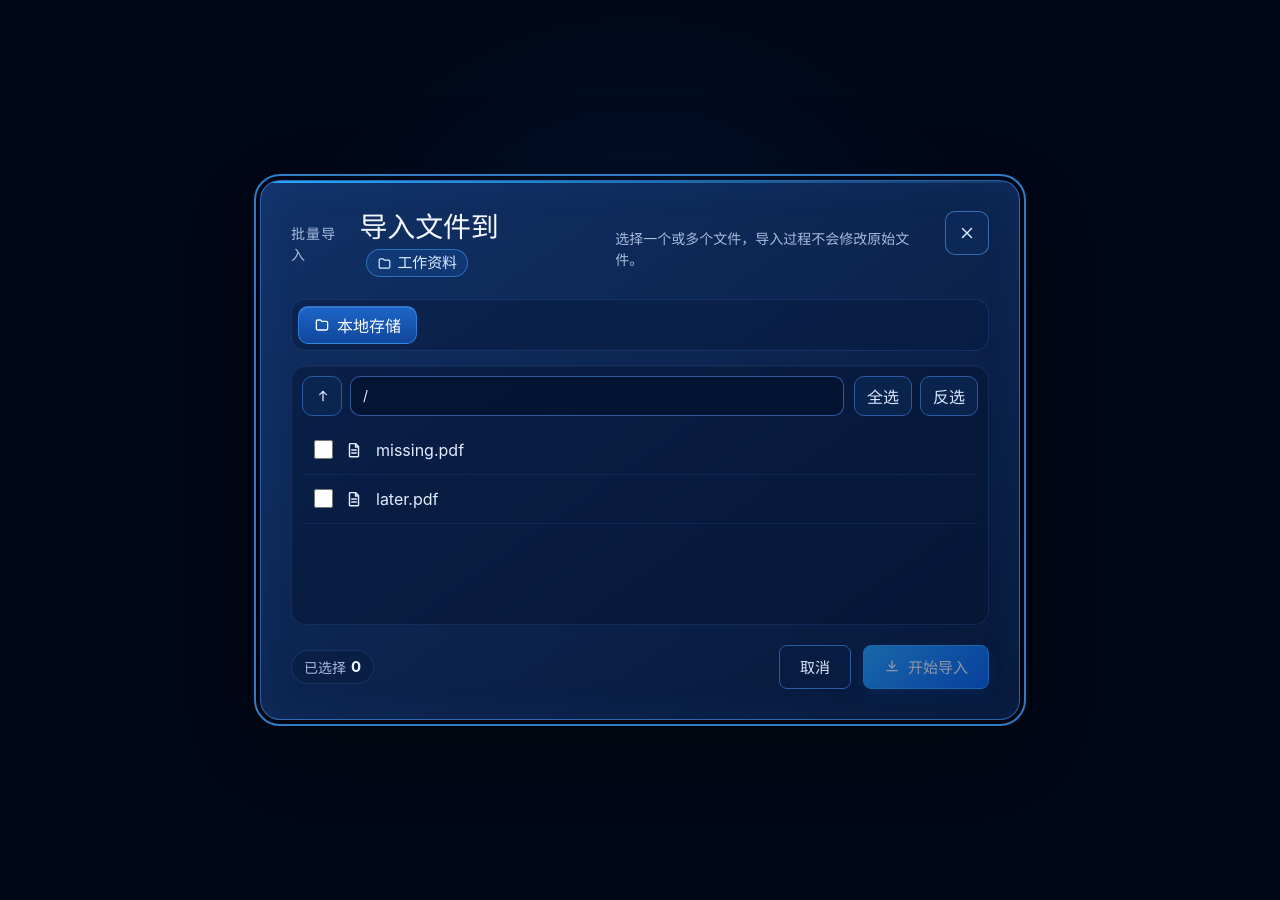
Test: ImportFileDialog import flow › browses, selects files, starts the batch, and renders streamed progress
Click the checkbox labelled "missing.pdf" at x=324, y=450, box [314,440,333,459]
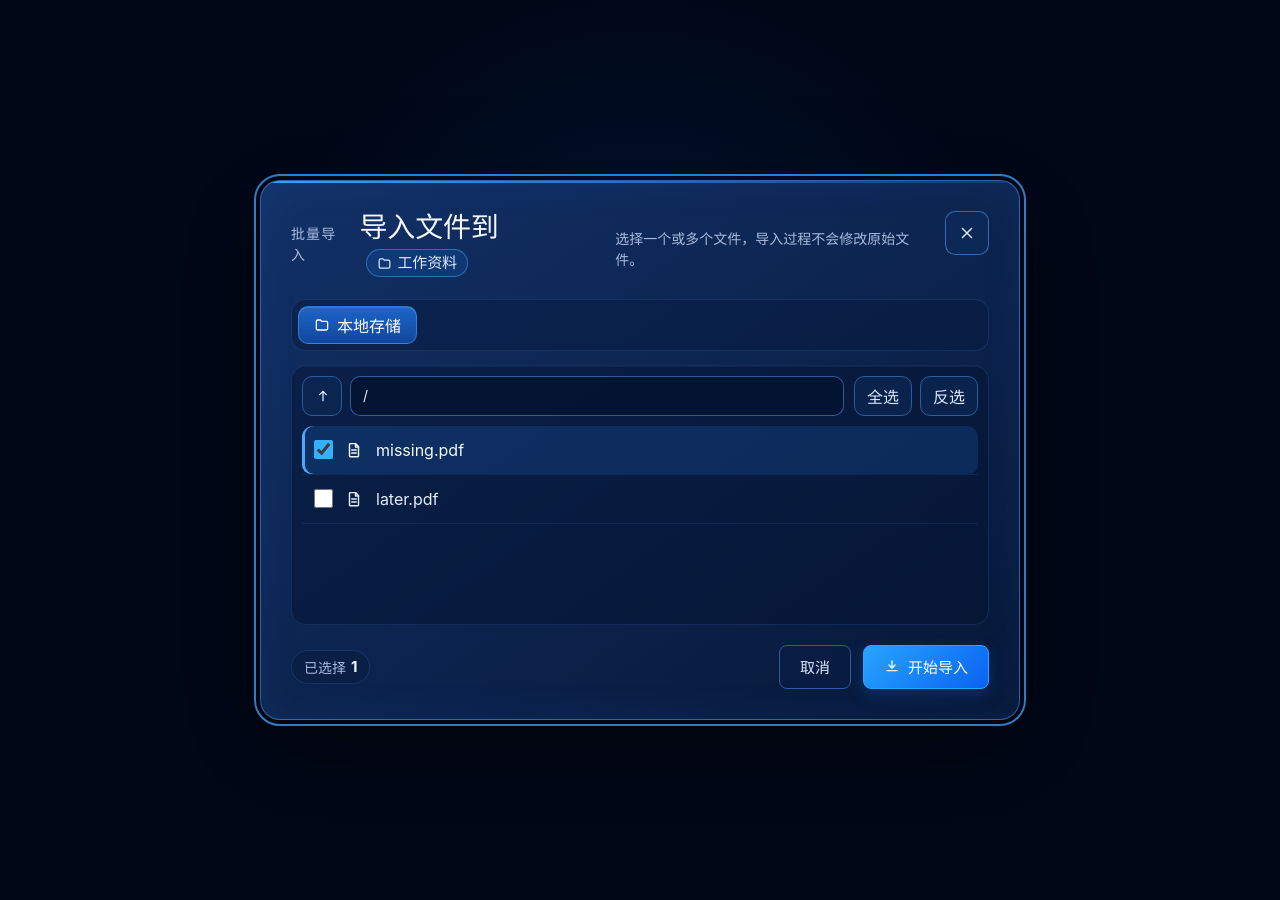
Click the checkbox labelled "later.pdf" at x=324, y=499, box [314,489,333,508]
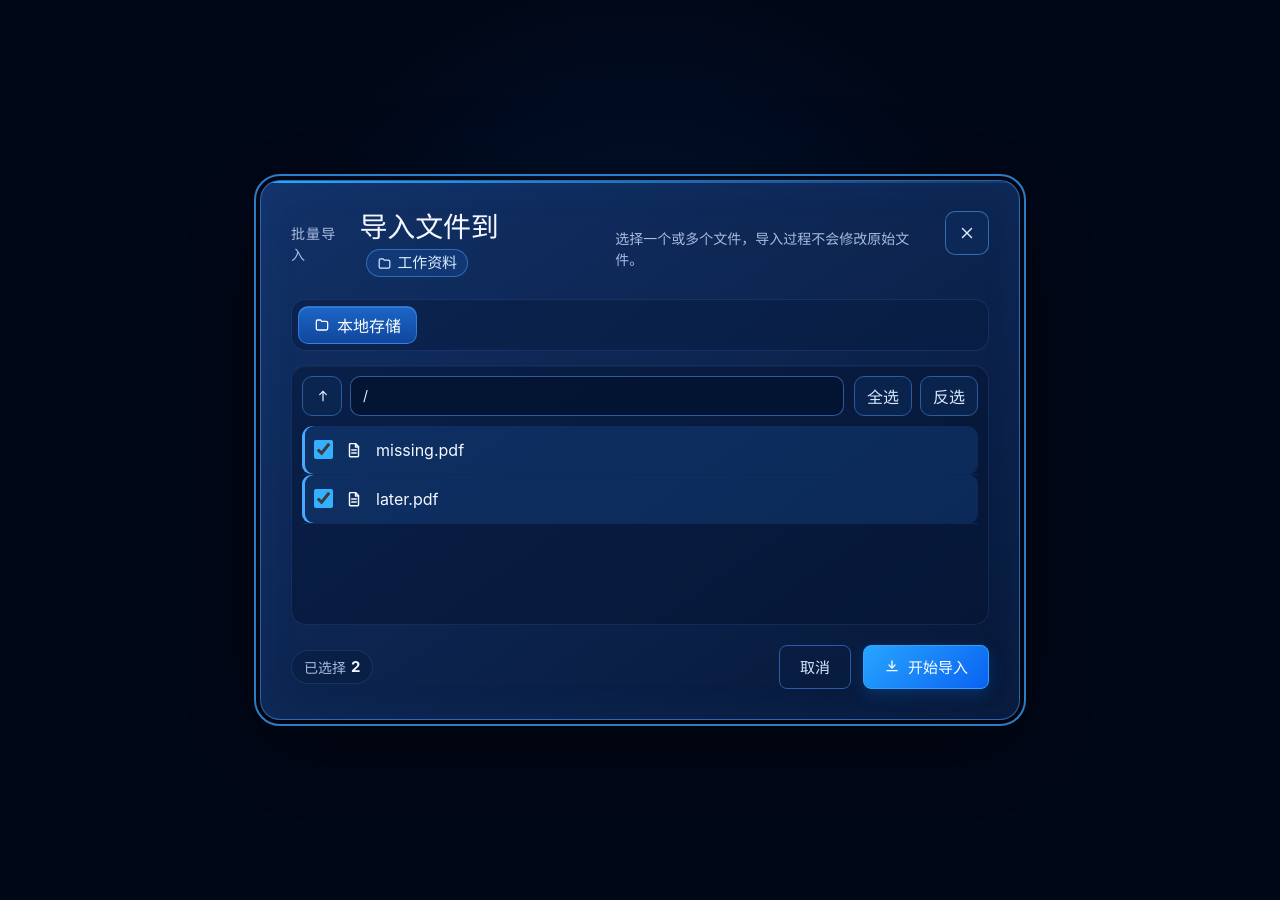
Click the button "开始导入" at x=926, y=667, box [863,645,989,689]
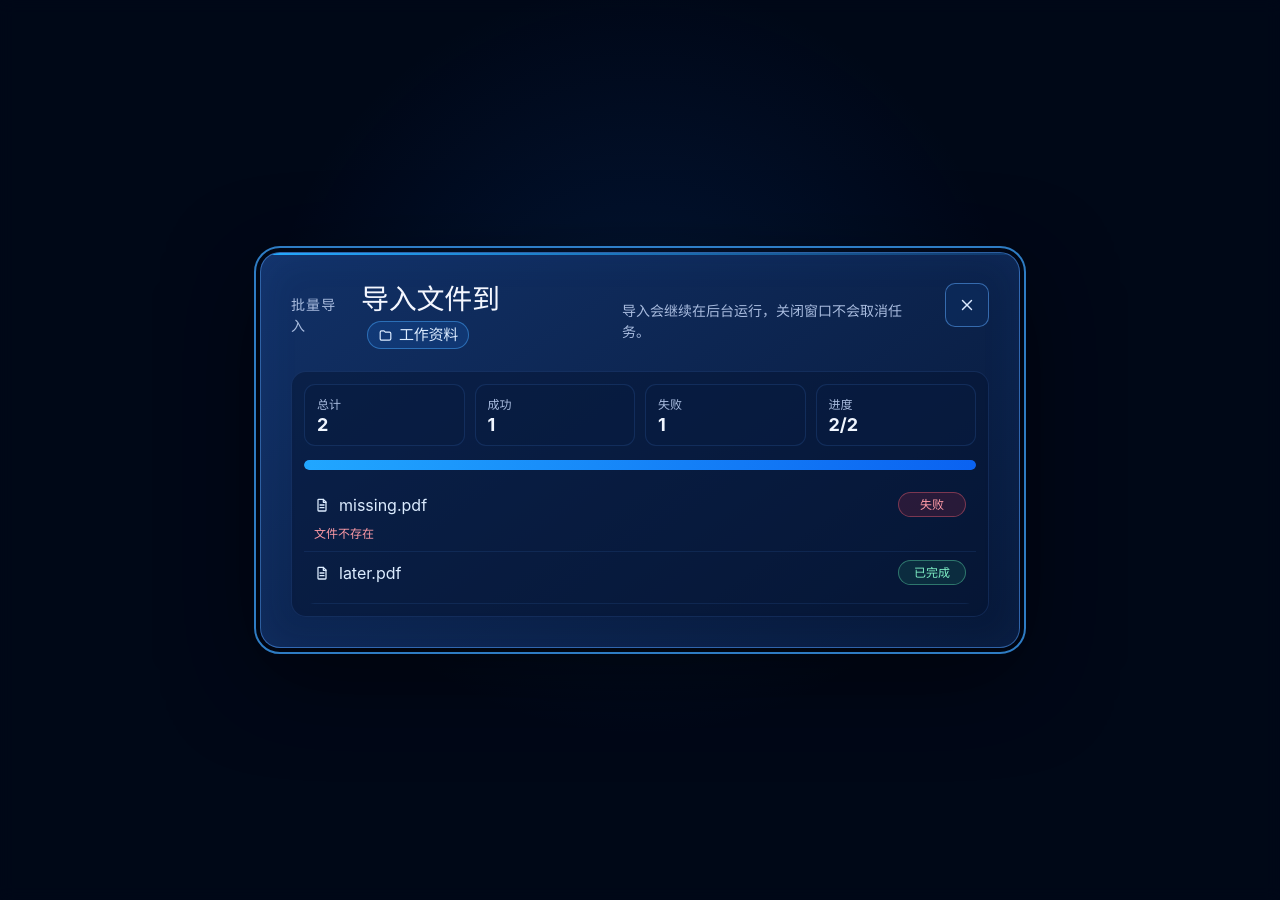
Result: the text "文件不存在" is shown at [314,525,374,543]
Result: the text "已完成" is shown at [898,560,966,585]
